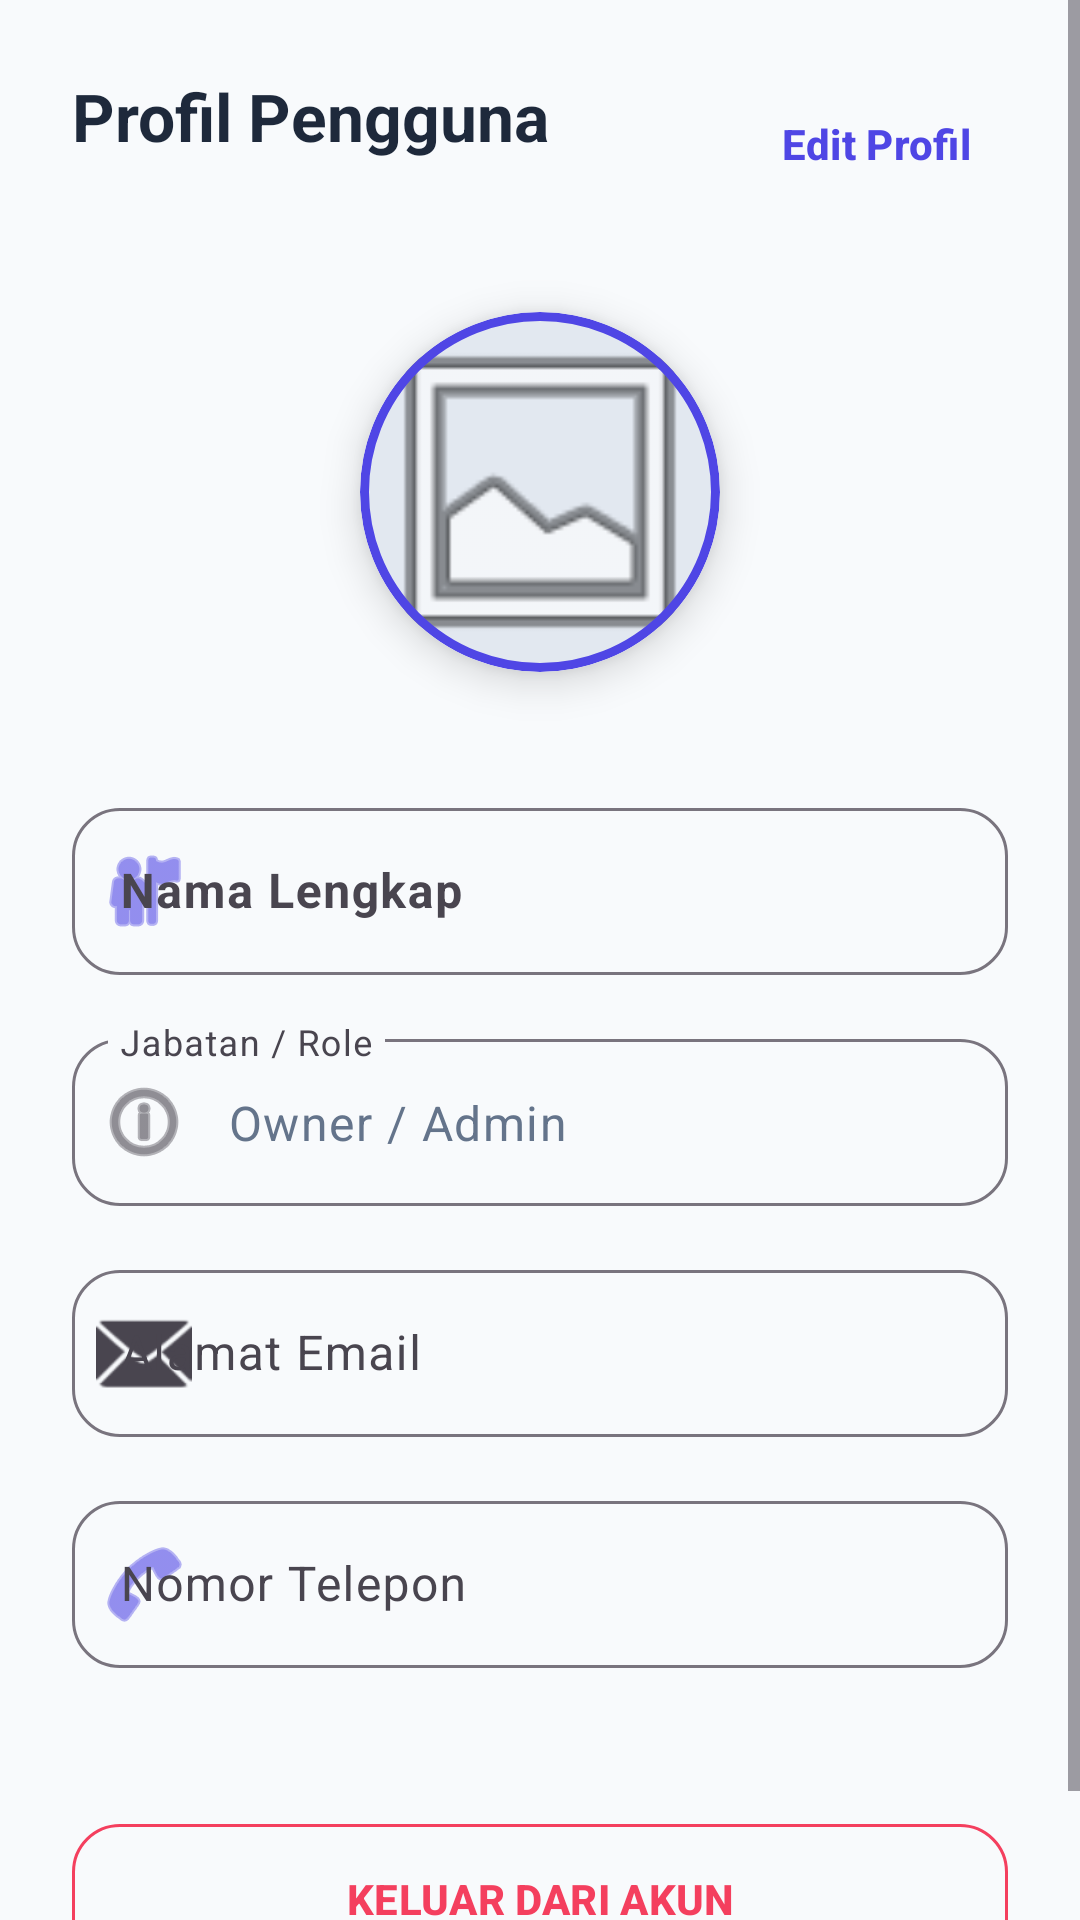

Icons on this 1080 × 1920 Android screen, each with its box as (x1, y1, x2, y2):
gallery: (360, 312, 720, 672)
